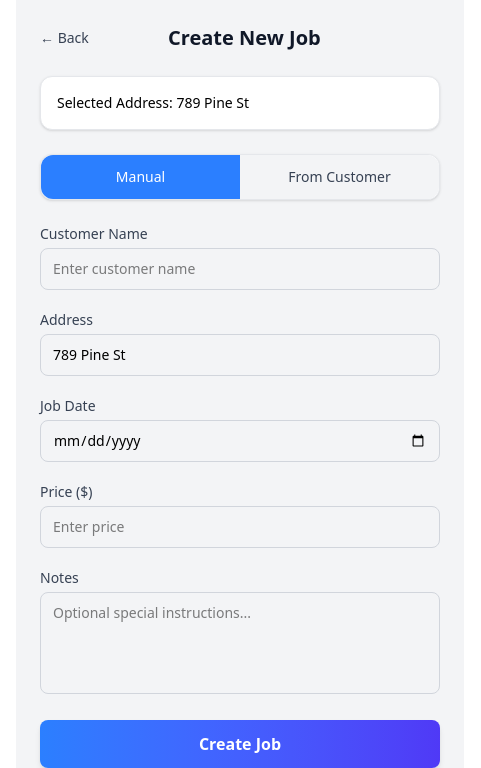
Test: NewJobPage › switches to customer tab and requires selecting a customer
The width and height of the screenshot is (481, 768).
Click the button "From Customer".
click(340, 177)  # box [240,155,439,199]
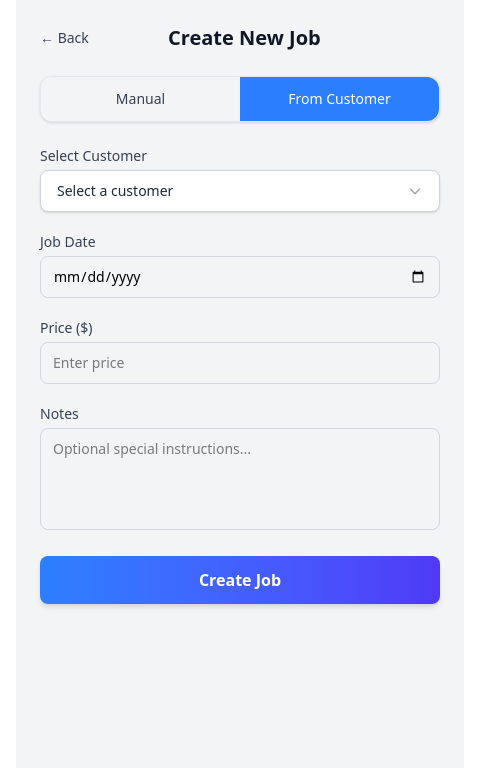
Click the button "Create Job".
click(240, 580)  # box [40,556,440,604]
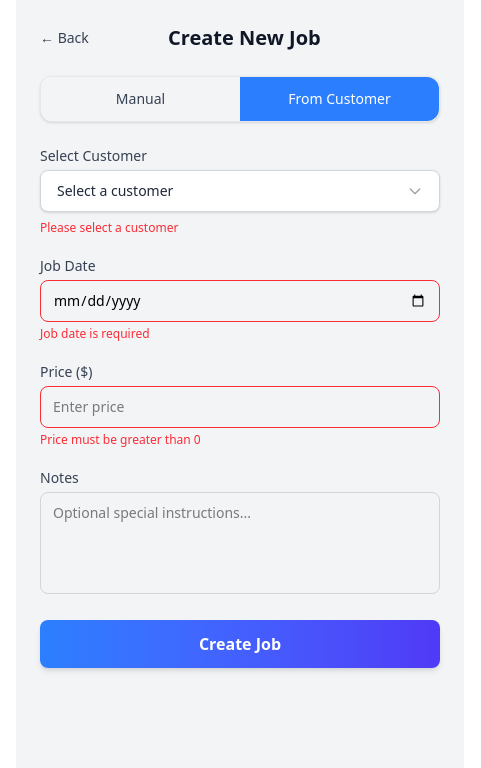
Now the text "Please select a customer" is shown, box [40,219,178,236]
